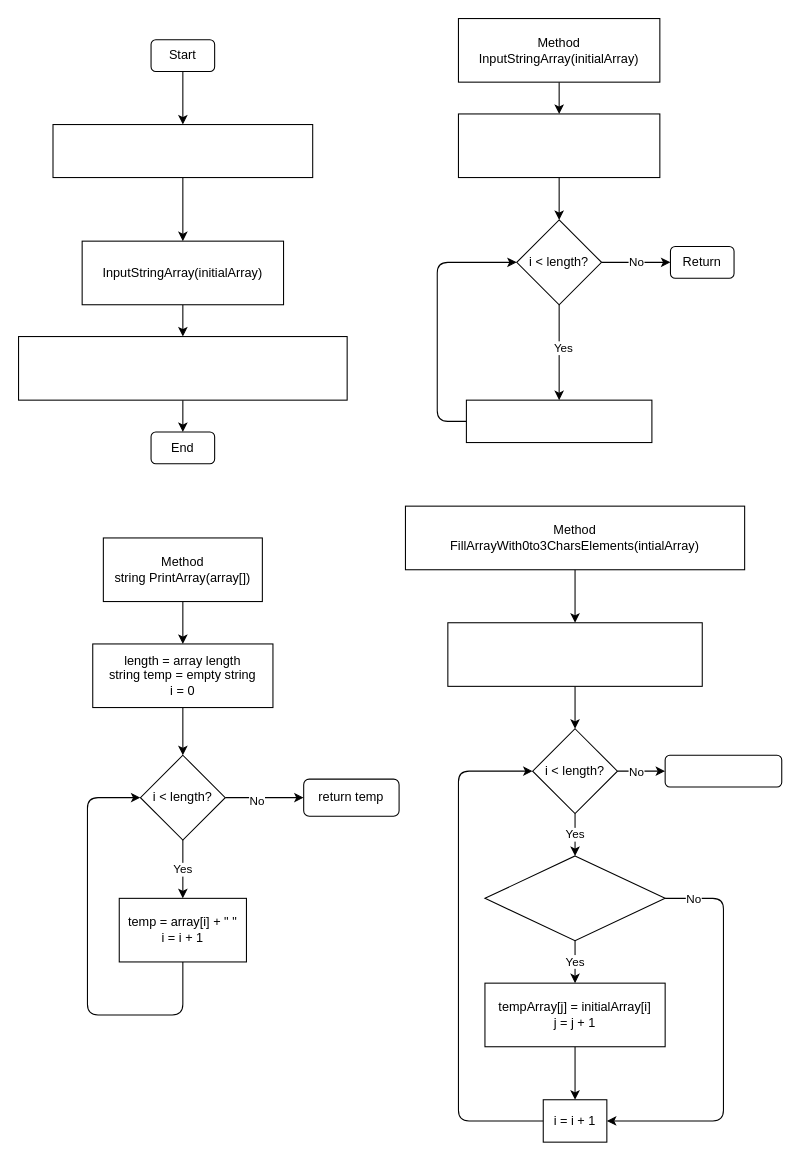
This 800x1161 diagram has some shape labels left out. Here are the shapes that lost their labels. From the top down, the centre of each, then its label:
the point at 182,150: input arrayLength initialArray = new string array [arrayLength]
the point at 558,145: i = 0 length = initialArray length
the point at 182,367: Console output PrintArray(FillArrayWith0to3CharsElements(intialArray))
the point at 558,421: initialArray[i] = Console Input i = i + 1
the point at 574,654: length = intialArray length tempArray = new string array [0] i = 0 j = 0
the point at 723,770: Return tempArray
the point at 574,898: initialArray[i] length <= 3?
